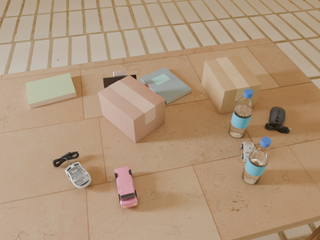book: (141, 68, 192, 104), (26, 73, 77, 108)
bottle: (242, 137, 271, 184), (229, 89, 253, 138)
box: (98, 75, 165, 143), (202, 56, 262, 114)
mouse: (65, 162, 91, 188), (265, 107, 291, 133)
phone: (103, 75, 136, 89)
toy_car: (115, 166, 138, 209), (241, 142, 255, 162)
